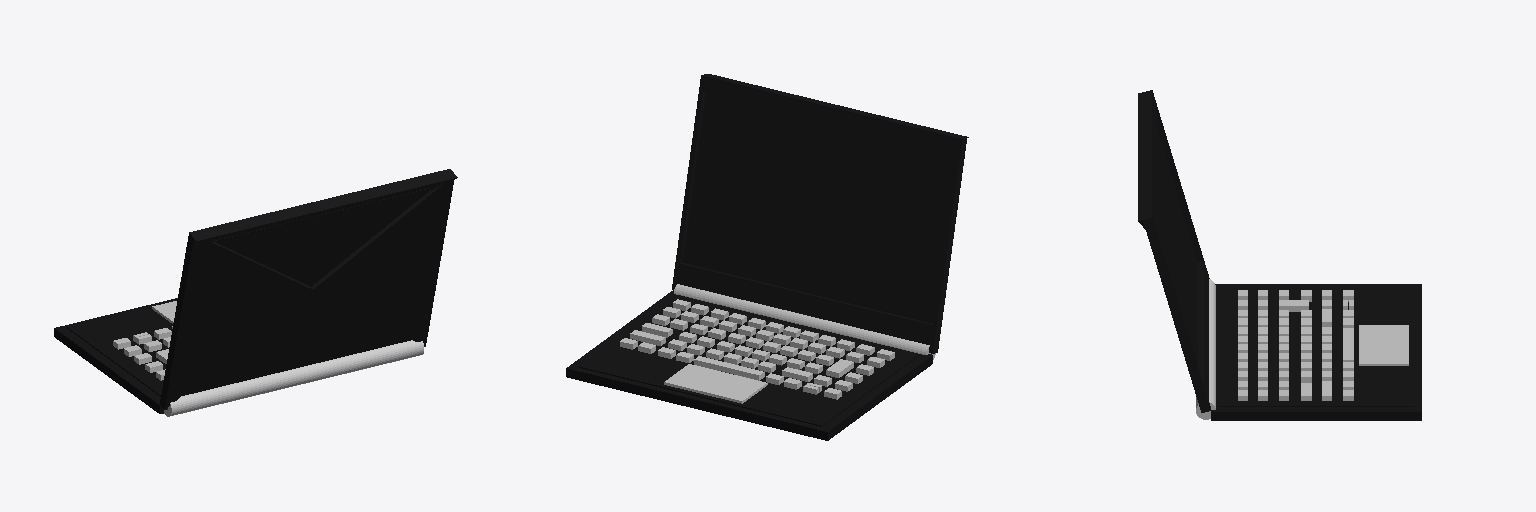
File: laptop.obj
3 views of the same model, side by side, from view 1: azimuth 30°, elevation 25°; view 2: azimuth 150°, elevation 25°; view 3: azimuth 270°, elevation 25° (orthographic).
Parts seen in each view (by area): view 1: Cube_Cube.001, Cube.001_Cube.002, Cylinder; view 2: Cube_Cube.001, Cube.001_Cube.002, Cylinder, Cube.014_Cube.015, Cube.066_Cube.078; view 3: Cube.001_Cube.002, Cube_Cube.001, Cube.014_Cube.015, Cylinder.
Boxes of the visible parts, <box> form: Cube_Cube.001: <box>160,169,457,409</box>; Cube.001_Cube.002: <box>54,298,177,413</box>; Cylinder: <box>164,340,423,416</box>; Cube_Cube.001: <box>672,74,968,353</box>; Cube.001_Cube.002: <box>566,291,932,440</box>; Cylinder: <box>674,284,935,359</box>; Cube.014_Cube.015: <box>664,364,767,403</box>; Cube.066_Cube.078: <box>694,356,764,380</box>; Cube.001_Cube.002: <box>1211,284,1421,420</box>; Cube_Cube.001: <box>1138,90,1210,412</box>; Cube.014_Cube.015: <box>1359,325,1408,365</box>; Cylinder: <box>1196,279,1215,419</box>.
Bounding box in the file's own units: 0.6 × 0.4484 × 0.5651.